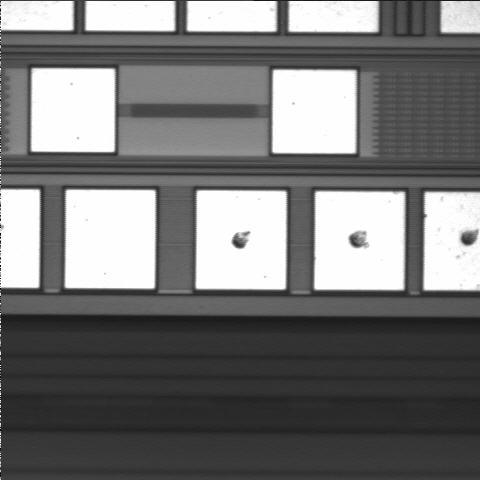pad: (65, 190, 155, 288), (196, 191, 286, 289), (314, 192, 404, 290), (31, 69, 115, 152), (273, 70, 356, 153)
